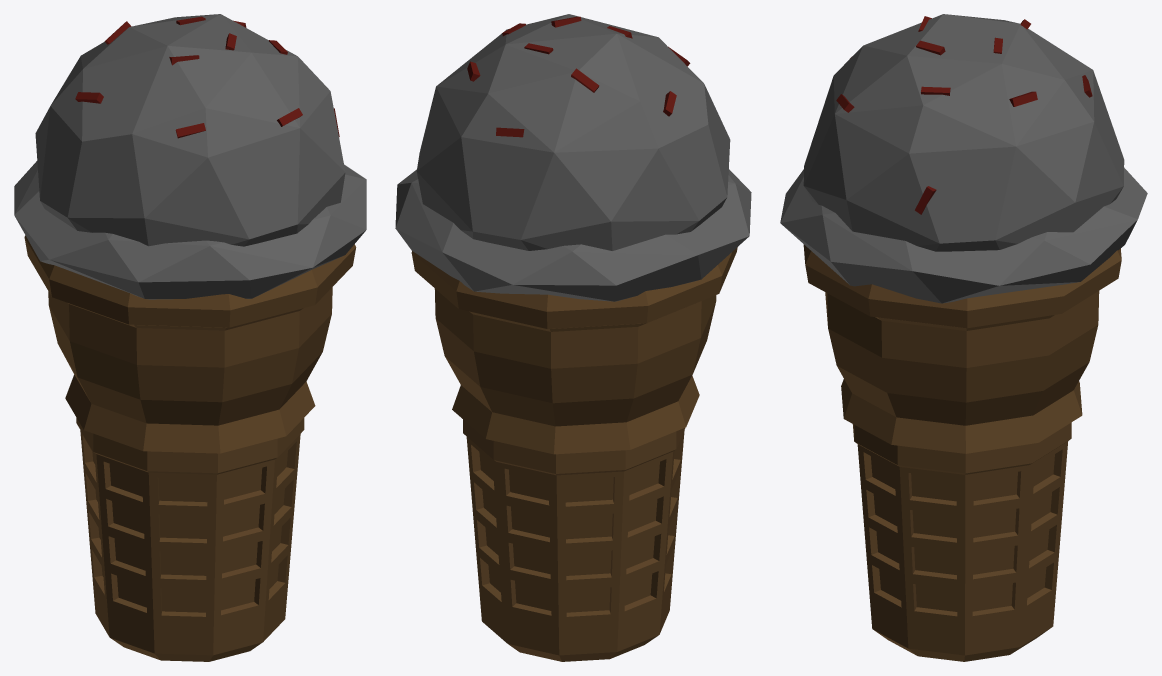
The model's file is IceCream_3.obj.
3 views of the same model, side by side, from view 1: azimuth 30°, elevation 25°; view 2: azimuth 150°, elevation 25°; view 3: azimuth 270°, elevation 25° (orthographic).
Visible parts, largest first — view 1: IceCream_3_Cylinder.038; view 2: IceCream_3_Cylinder.038; view 3: IceCream_3_Cylinder.038.
Part boxes in pixels (x1=…): IceCream_3_Cylinder.038: x1=14, y1=14, x2=366, y2=661; IceCream_3_Cylinder.038: x1=395, y1=14, x2=751, y2=661; IceCream_3_Cylinder.038: x1=780, y1=14, x2=1147, y2=661.
Size of the model in its own units: 0.5155 by 0.9274 by 0.5155.
